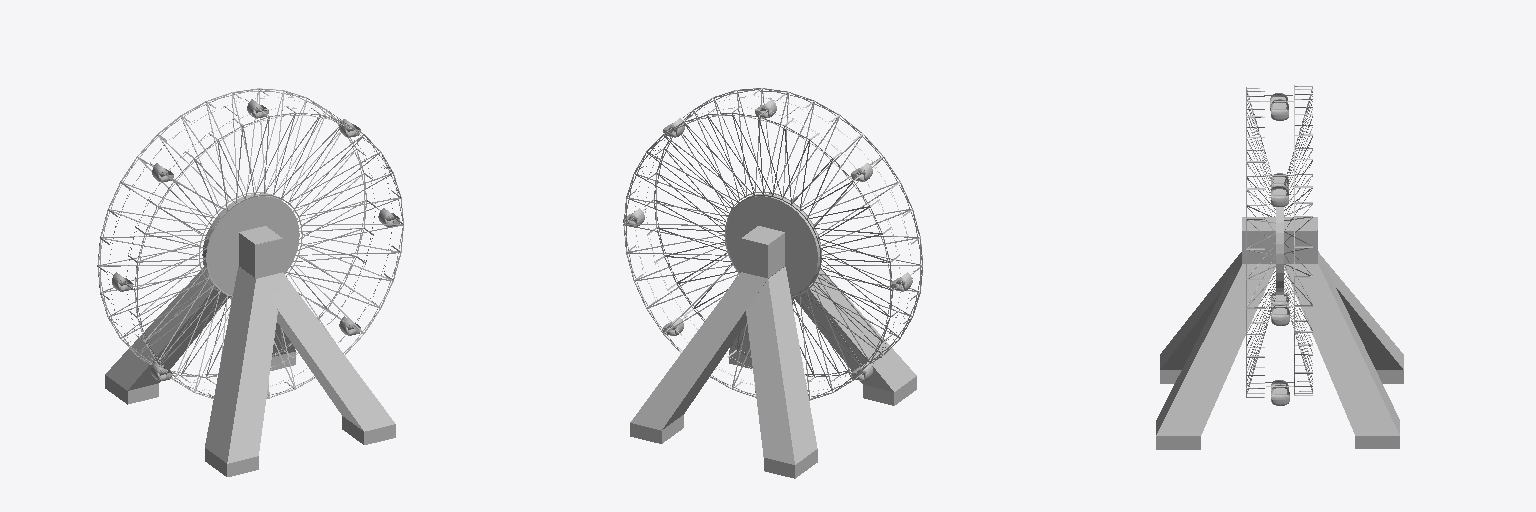
The model's file is FerrisWheel.obj.
3 views of the same model, side by side, from view 1: azimuth 30°, elevation 25°; view 2: azimuth 150°, elevation 25°; view 3: azimuth 270°, elevation 25° (orthographic).
Parts seen in each view (by area): view 1: Cube.012_Cube.014, Cylinder.001; view 2: Cube.012_Cube.014, Cylinder.001; view 3: Cube.012_Cube.014, Cylinder.001.
Boxes of the visible parts, x1,y1,x2,y2 form: Cube.012_Cube.014: [105, 226, 395, 476]; Cylinder.001: [97, 88, 403, 398]; Cube.012_Cube.014: [630, 226, 916, 478]; Cylinder.001: [623, 88, 922, 400]; Cube.012_Cube.014: [1156, 217, 1403, 449]; Cylinder.001: [1246, 85, 1312, 397].
Size of the model in its own units: 2.11 by 2.21 by 1.59.